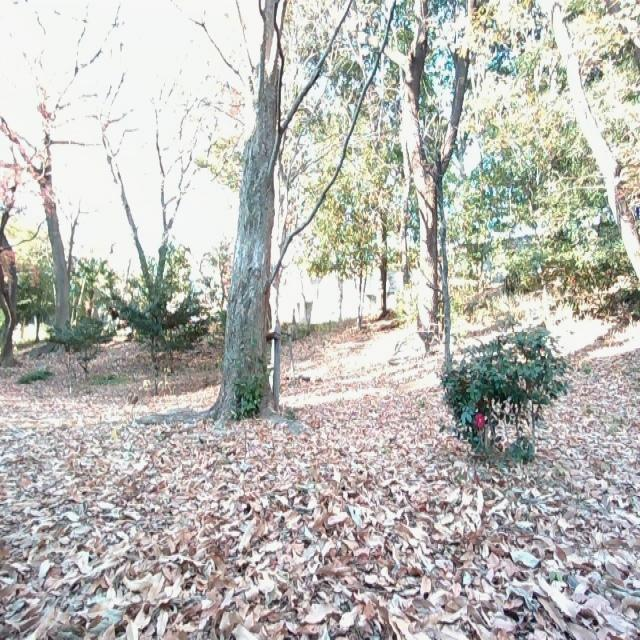bush: (442, 318, 566, 470), (91, 256, 207, 373), (44, 308, 111, 380), (231, 355, 268, 423)
tree: (177, 0, 382, 426), (356, 2, 477, 345), (5, 0, 114, 336), (538, 3, 640, 298), (0, 99, 27, 365)
